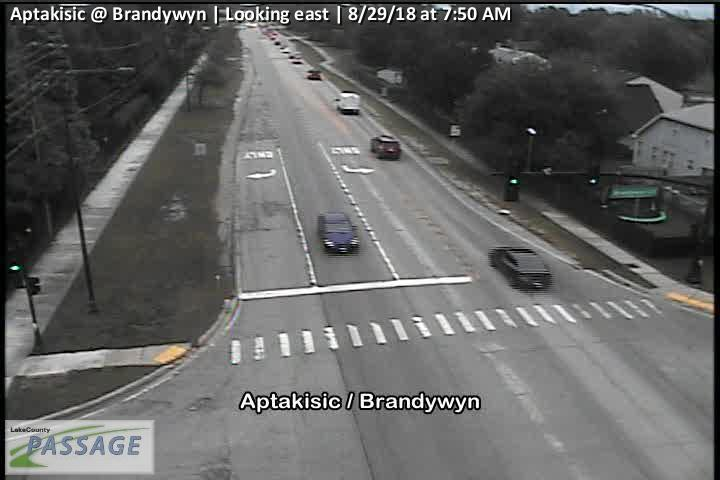Sedan: (488, 245, 552, 290), (319, 212, 360, 255), (370, 134, 402, 160), (304, 69, 323, 81), (288, 53, 303, 64)
Truck: (335, 92, 360, 114)
